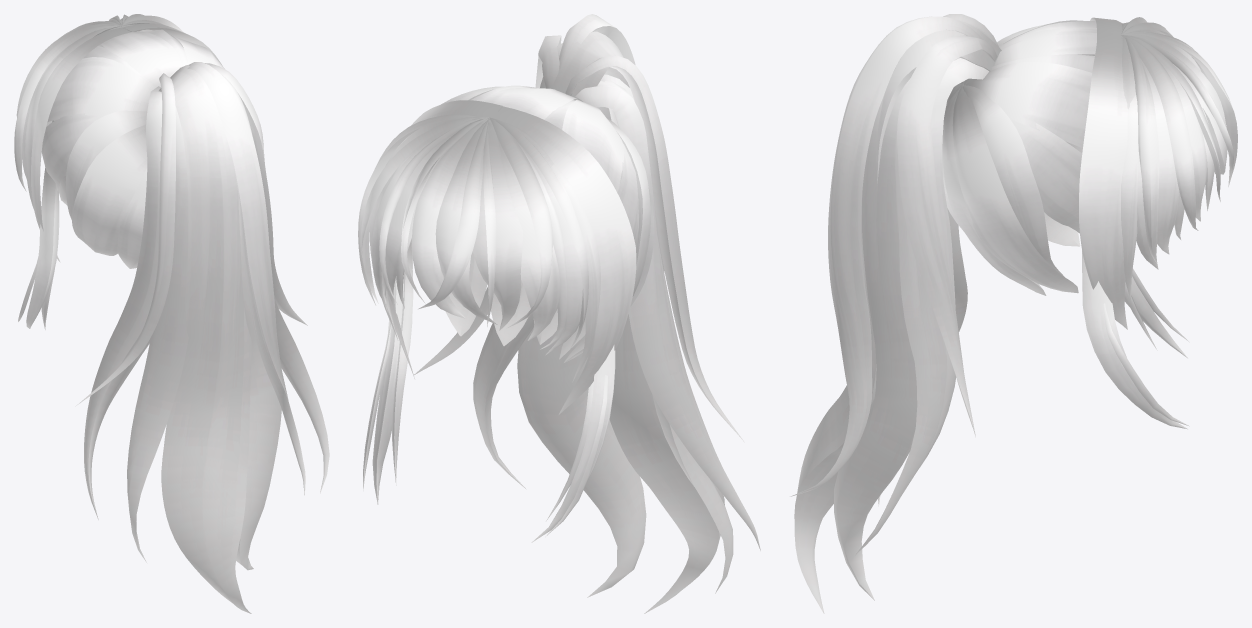
The model's file is Hair001.glb.
The picture shows the model from 3 angles, left to right: view 1: azimuth 30°, elevation 25°; view 2: azimuth 150°, elevation 25°; view 3: azimuth 270°, elevation 25°; orthographic projection. The views are drawn at different scales.
Parts seen in each view (by area): view 1: Hair001; view 2: Hair001; view 3: Hair001.
Boxes of the visible parts, x1,y1,x2,y2 form: Hair001: (14,14,329,613); Hair001: (358,14,760,613); Hair001: (790,14,1237,613).
Size of the model in its own units: 0.2811 by 0.5511 by 0.3738.
1 material, 1 textured.
